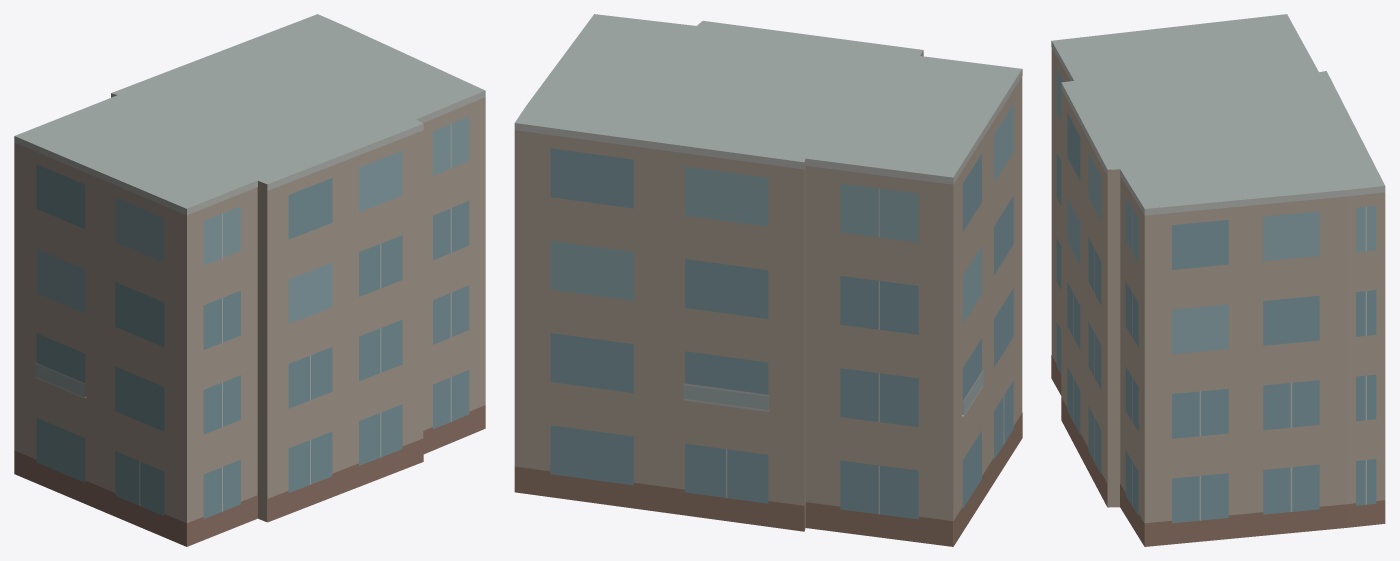
The model's file is survey-upis-32911603.glb.
The picture shows the model from 3 angles, left to right: view 1: azimuth 30°, elevation 25°; view 2: azimuth 150°, elevation 25°; view 3: azimuth 270°, elevation 25°; orthographic projection. The views are drawn at different scales.
Parts seen in each view (by area): view 1: survey-upis-32911603.tmp; view 2: survey-upis-32911603.tmp; view 3: survey-upis-32911603.tmp.
Part boxes in pixels (left/top/right/bottom): survey-upis-32911603.tmp: left=14, top=14, right=485, bottom=546; survey-upis-32911603.tmp: left=514, top=14, right=1022, bottom=546; survey-upis-32911603.tmp: left=1051, top=14, right=1385, bottom=546.
Size of the model in its own units: 15.74 by 12.7 by 11.38.
